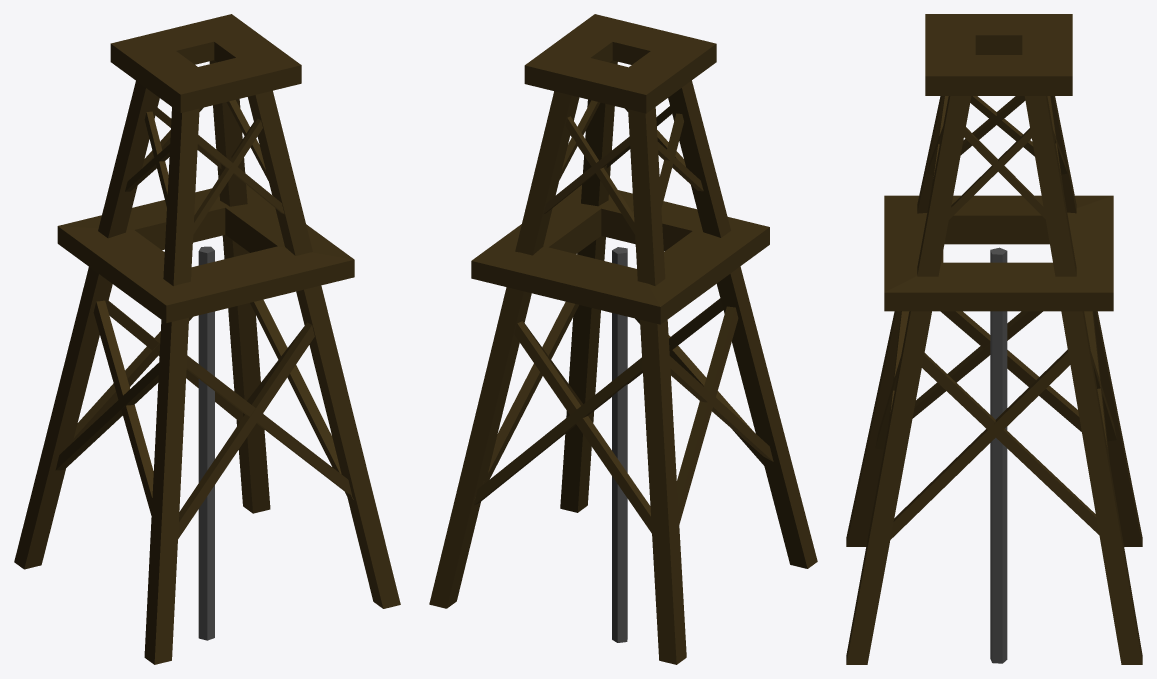
The model's file is derrick.glb.
3 renders of one model, left to right at view 1: azimuth 30°, elevation 25°; view 2: azimuth 150°, elevation 25°; view 3: azimuth 270°, elevation 25°, orthographic. The views are drawn at different scales.
Parts seen in each view (by area): view 1: Cube.016, Cylinder; view 2: Cube.016, Cylinder; view 3: Cube.016, Cylinder.
Boxes of the visible parts, x1,y1,x2,y2 form: Cube.016: [14, 14, 400, 664]; Cylinder: [198, 246, 214, 640]; Cube.016: [429, 14, 817, 664]; Cylinder: [612, 247, 627, 642]; Cube.016: [846, 14, 1142, 664]; Cylinder: [990, 247, 1007, 663].
Size of the model in its own units: 8.66 by 19.58 by 8.55.
